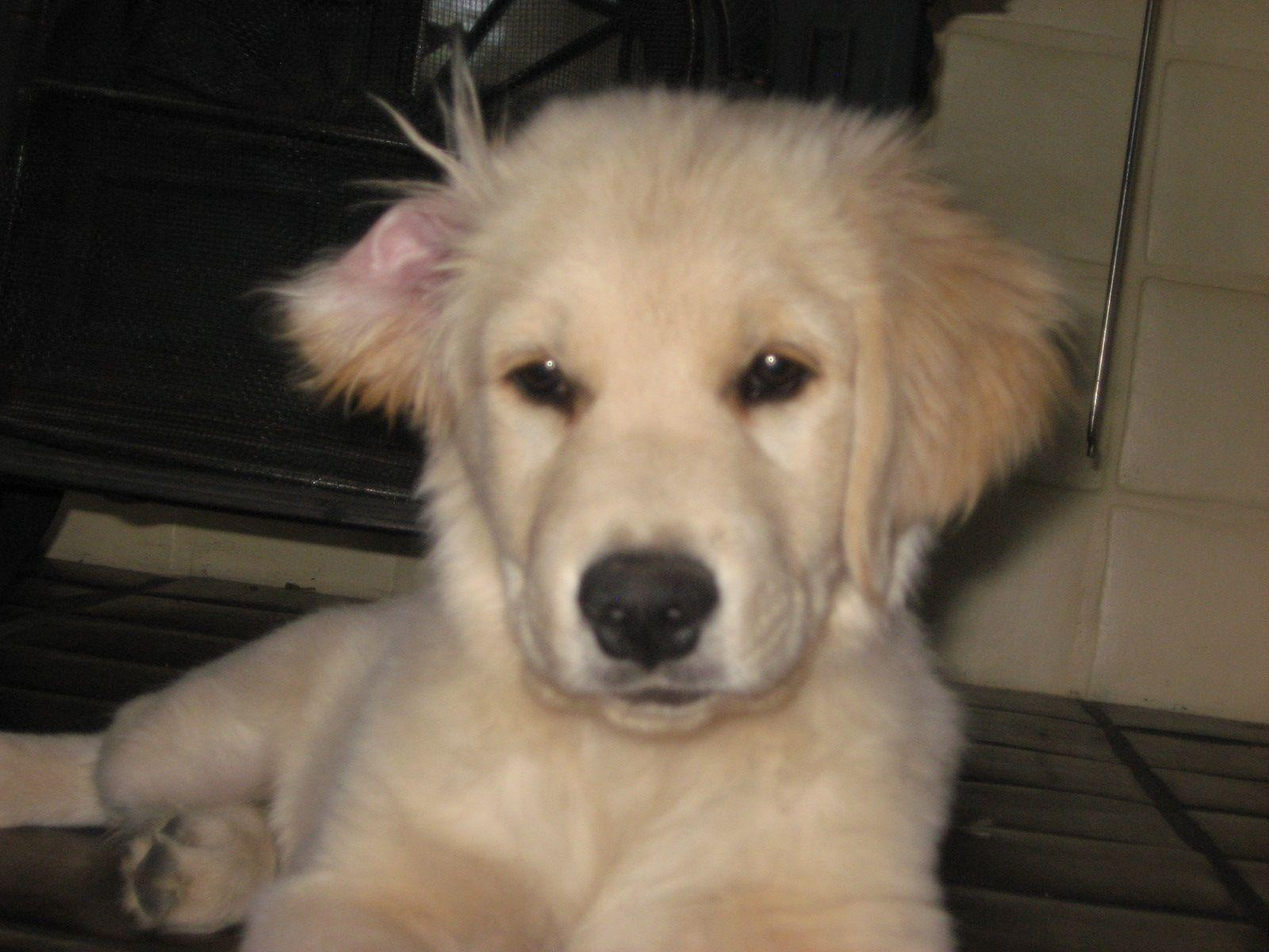puppy-dog: (2, 66, 1112, 952)
